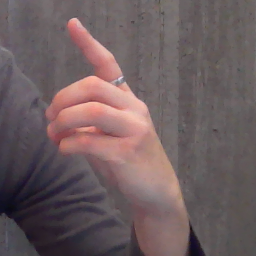D: (40, 16, 173, 188)
